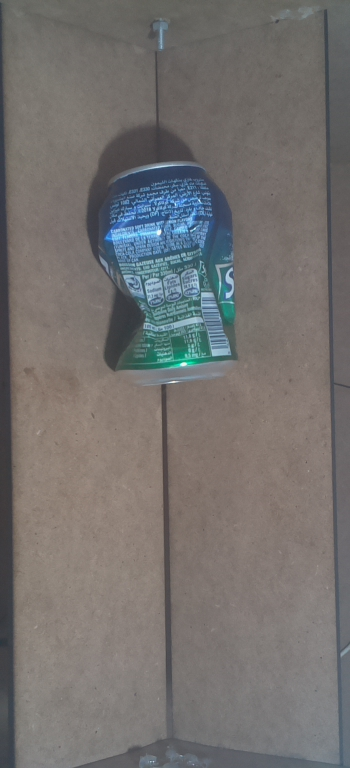Canette: (83, 159, 259, 392)
